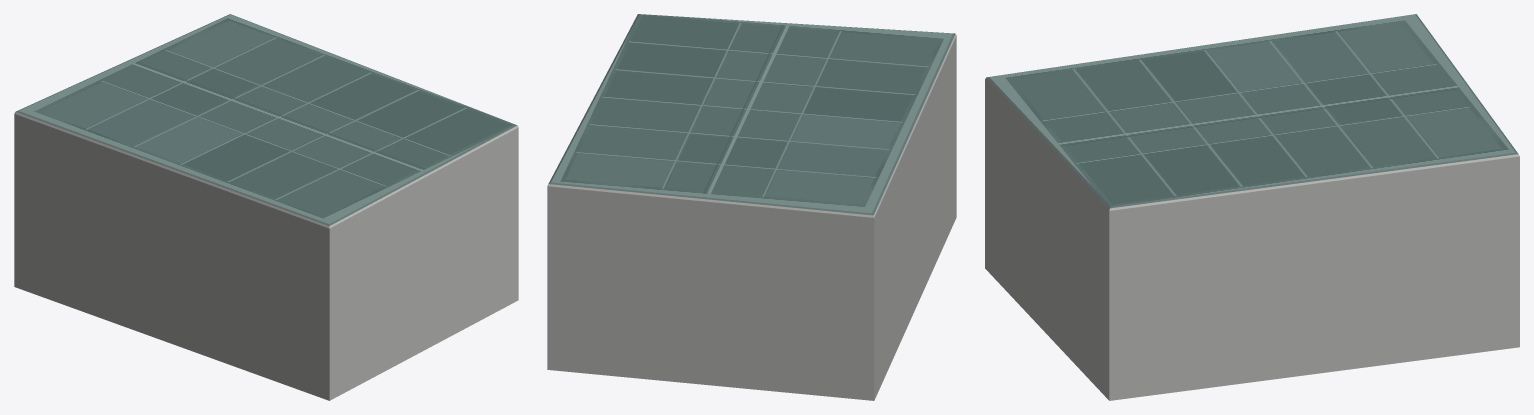
File: fragments.glb
3 views of the same model, side by side, from view 1: azimuth 30°, elevation 25°; view 2: azimuth 150°, elevation 25°; view 3: azimuth 270°, elevation 25° (orthographic). The views are drawn at different scales.
Visible parts, largest first — view 1: SM_gh41_Fragment_011, SM_gh41_Fragment_030, SM_gh41_Fragment_016, SM_gh41_Fragment_035, SM_gh41_Fragment_048, SM_gh41_Fragment_002, SM_gh41_Fragment_019, SM_gh41_Fragment_037, SM_gh41_Fragment_044, SM_gh41_Fragment_055, SM_gh41_Fragment_033, SM_gh41_Fragment_026 (+23 smaller); view 2: SM_gh41_Fragment_006, SM_gh41_Fragment_029, SM_gh41_Fragment_001, SM_gh41_Fragment_022, SM_gh41_Fragment_041, SM_gh41_Fragment_004, SM_gh41_Fragment_030, SM_gh41_Fragment_032, SM_gh41_Fragment_055, SM_gh41_Fragment_002, SM_gh41_Fragment_015, SM_gh41_Fragment_035 (+23 smaller); view 3: SM_gh41_Fragment_027, SM_gh41_Fragment_010, SM_gh41_Fragment_050, SM_gh41_Fragment_046, SM_gh41_Fragment_012, SM_gh41_Fragment_003, SM_gh41_Fragment_018, SM_gh41_Fragment_009, SM_gh41_Fragment_029, SM_gh41_Fragment_026, SM_gh41_Fragment_056, SM_gh41_Fragment_036 (+26 smaller).
Part boxes in pixels (<box>): SM_gh41_Fragment_011: <box>237,271,365,400</box>; SM_gh41_Fragment_030: <box>14,109,102,238</box>; SM_gh41_Fragment_016: <box>279,191,365,301</box>; SM_gh41_Fragment_035: <box>211,160,331,279</box>; SM_gh41_Fragment_048: <box>161,199,255,328</box>; SM_gh41_Fragment_002: <box>141,140,283,214</box>; SM_gh41_Fragment_019: <box>92,106,178,215</box>; SM_gh41_Fragment_037: <box>385,122,485,223</box>; SM_gh41_Fragment_044: <box>331,167,431,276</box>; SM_gh41_Fragment_055: <box>14,192,95,297</box>; SM_gh41_Fragment_033: <box>93,198,178,294</box>; SM_gh41_Fragment_026: <box>450,196,518,308</box>; SM_gh41_Fragment_006: <box>735,167,867,273</box>; SM_gh41_Fragment_029: <box>547,260,644,375</box>; SM_gh41_Fragment_001: <box>568,157,678,271</box>; SM_gh41_Fragment_022: <box>624,304,748,388</box>; SM_gh41_Fragment_041: <box>655,157,768,257</box>; SM_gh41_Fragment_004: <box>746,316,863,399</box>; SM_gh41_Fragment_030: <box>826,170,897,299</box>; SM_gh41_Fragment_032: <box>727,246,833,321</box>; SM_gh41_Fragment_055: <box>819,274,895,400</box>; SM_gh41_Fragment_002: <box>805,85,925,181</box>; SM_gh41_Fragment_015: <box>630,246,729,307</box>; SM_gh41_Fragment_035: <box>840,50,944,159</box>; SM_gh41_Fragment_027: <box>1143,179,1271,308</box>; SM_gh41_Fragment_010: <box>1324,139,1462,239</box>; SM_gh41_Fragment_050: <box>1297,218,1421,319</box>; SM_gh41_Fragment_046: <box>1436,145,1519,267</box>; SM_gh41_Fragment_012: <box>1086,180,1167,289</box>; SM_gh41_Fragment_003: <box>1246,166,1329,303</box>; SM_gh41_Fragment_018: <box>1326,294,1448,372</box>; SM_gh41_Fragment_009: <box>1169,307,1256,391</box>; SM_gh41_Fragment_029: <box>1438,249,1519,352</box>; SM_gh41_Fragment_026: <box>1064,245,1175,355</box>; SM_gh41_Fragment_056: <box>1257,294,1339,381</box>; SM_gh41_Fragment_036: <box>1080,324,1183,400</box>.
Size of the model in its own units: 1.9 by 0.8798 by 2.2.
4 materials, 1 textured.
